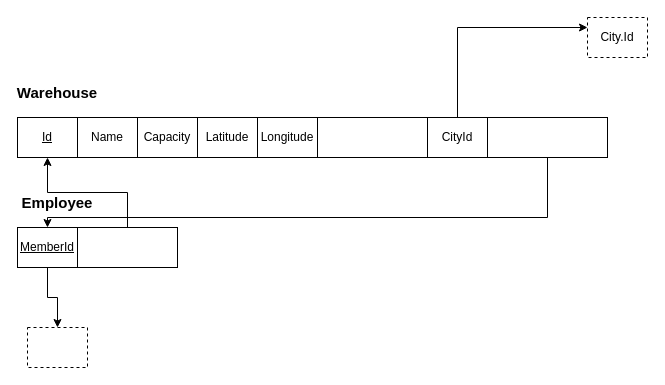
The diagram is 665 pixels wide and 385 high, and some of its shapes have lost their labels. The box of each missing label's shape, as (x1, y1, x2, y2) in pixels:
ManagerMemberId: (486, 116, 608, 158)
ManageStartDate: (316, 116, 428, 158)
Member.Id: (26, 326, 88, 368)
WarehouseId: (76, 226, 178, 268)
